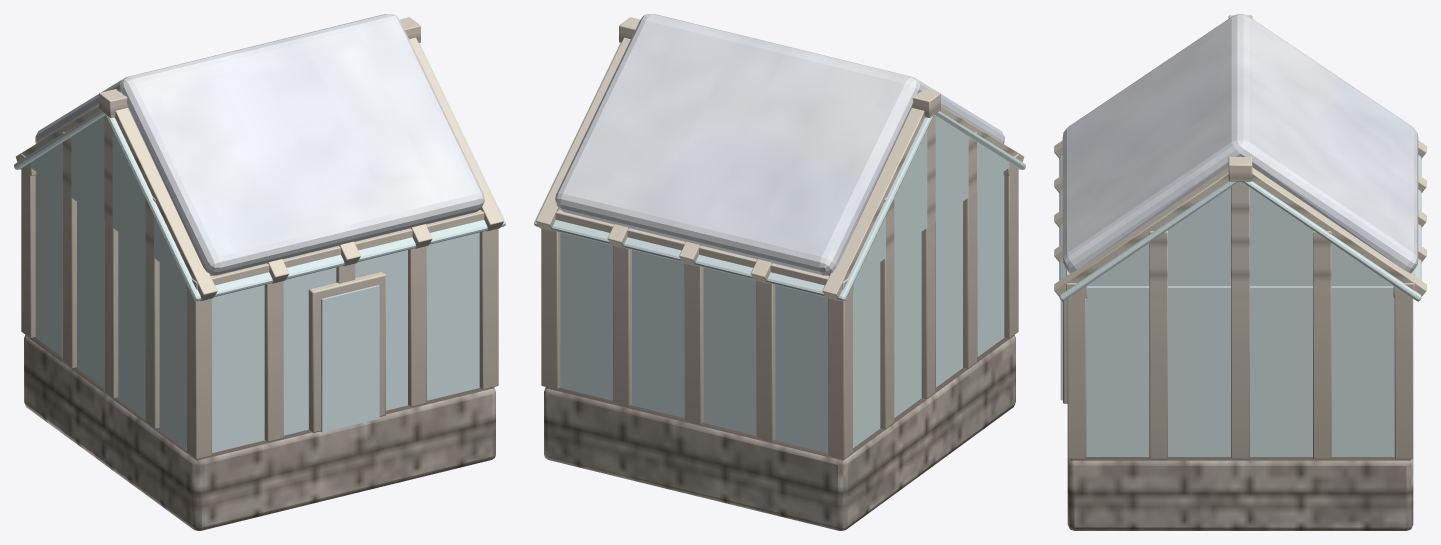
Rendered from unlock-greenhouse-dong.glb.
3 views of the same model, side by side, from view 1: azimuth 30°, elevation 25°; view 2: azimuth 150°, elevation 25°; view 3: azimuth 270°, elevation 25° (orthographic).
Parts seen in each view (by area): view 1: unlock-greenhouse-static; view 2: unlock-greenhouse-static; view 3: unlock-greenhouse-static.
Part boxes in pixels (x1,y1,x2,y2): unlock-greenhouse-static: [14, 14, 505, 530]; unlock-greenhouse-static: [534, 14, 1025, 530]; unlock-greenhouse-static: [1054, 14, 1426, 530].
Bounding box in the file's own units: 0.76 × 0.9042 × 0.7963.
Materials: 15 (9 with a texture image).
